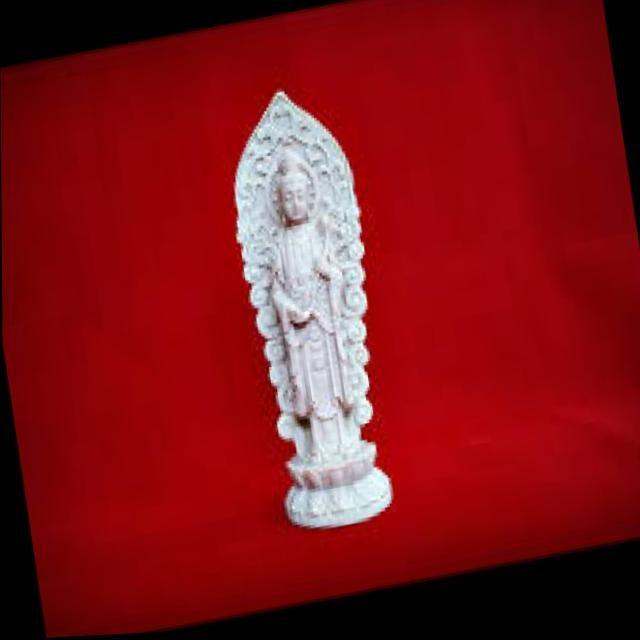Guan Yin: (249, 148, 354, 393)
